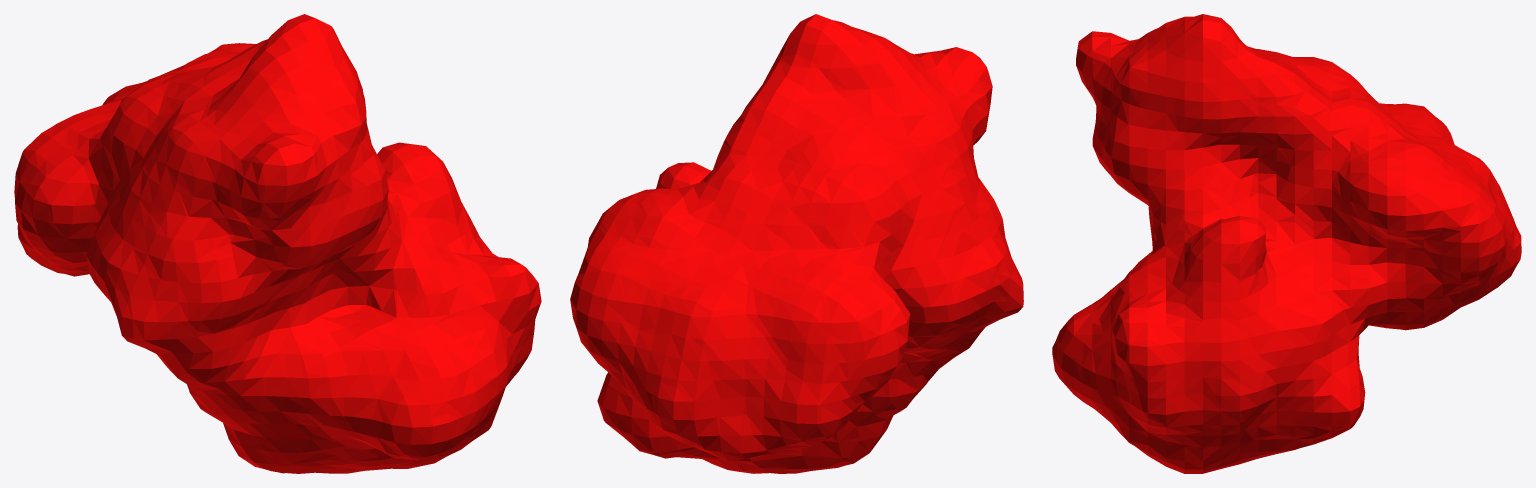
File: rclA_coarse.dae
The picture shows the model from 3 angles, left to right: view 1: azimuth 30°, elevation 25°; view 2: azimuth 150°, elevation 25°; view 3: azimuth 270°, elevation 25°; orthographic projection. The views are drawn at different scales.
Parts seen in each view (by area): view 1: rclA; view 2: rclA; view 3: rclA.
Part boxes in pixels (x1,y1,x2,y2): rclA: [14, 14, 541, 473]; rclA: [570, 14, 1023, 473]; rclA: [1052, 14, 1521, 473].
Size of the model in its own units: 60.33 by 68.24 by 70.2.
